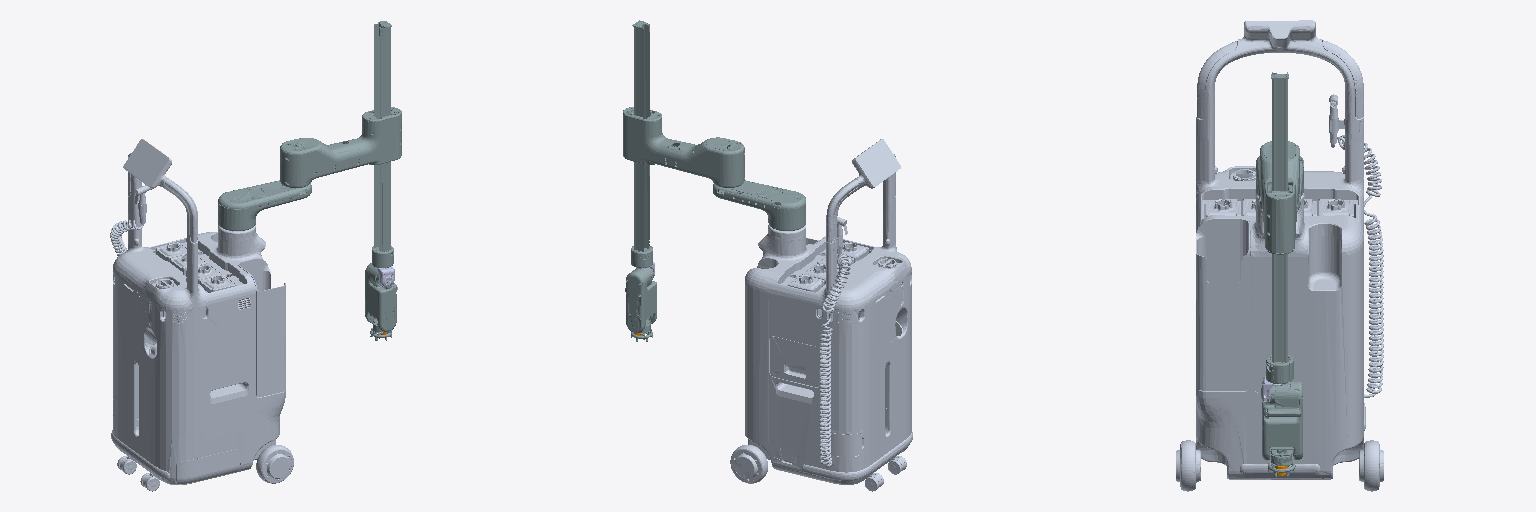
robot.urdf — 11-4-2:
<?xml version='1.0' encoding='utf-8'?>
<robot name="11-4-2">
  <link name="chassis_link">
    <inertial>
      <origin xyz="0.0064536 0.005602 0.4715" rpy="0 0 0" />
      <mass value="50" />
      <inertia ixx="0.3906" ixy="-0.011384" ixz="0.0049803" iyy="0.38788" iyz="0.0046922" izz="0.21531" />
    </inertial>
    <visual>
      <origin xyz="0 0 0" rpy="0 0 0" />
      <geometry>
        <mesh filename="meshes/chassis_link.STL" />
      </geometry>
      <material name="">
        <color rgba="0.80784 0.84314 0.90588 1" />
      </material>
    </visual>
    <collision>
      <origin xyz="0 0 0" rpy="0 0 0" />
      <geometry>
        <mesh filename="meshes/chassis_link.STL" />
      </geometry>
    </collision>
  </link>
  <link name="wheel_left_link">
    <inertial>
      <origin xyz="-2.5956E-08 1.4735E-07 -0.031758" rpy="0 0 0" />
      <mass value="5" />
      <inertia ixx="0.00047265" ixy="1.2993E-09" ixz="3.411E-11" iyy="0.00047265" iyz="6.0582E-12" izz="0.00085288" />
    </inertial>
    <visual>
      <origin xyz="0 0 0" rpy="0 0 0" />
      <geometry>
        <mesh filename="meshes/wheel_left_link.STL" />
      </geometry>
      <material name="">
        <color rgba="0.80784 0.84314 0.90588 1" />
      </material>
    </visual>
    <collision>
      <origin xyz="0 0 0" rpy="0 0 0" />
      <geometry>
        <mesh filename="meshes/wheel_left_link.STL" />
      </geometry>
    </collision>
  </link>
  <joint name="wheel_left_link" type="continuous">
    <origin xyz="0.16 0.20275 0.0237" rpy="1.5708 -1.5708 0" />
    <parent link="chassis_link" />
    <child link="wheel_left_link" />
    <axis xyz="0 0 1" />
  </joint>
  <link name="wheel_right_link">
    <inertial>
      <origin xyz="2.4542E-08 1.2337E-08 0.032242" rpy="0 0 0" />
      <mass value="5" />
      <inertia ixx="0.00047265" ixy="-2.8495E-09" ixz="-2.2362E-11" iyy="0.00047265" iyz="-2.6387E-11" izz="0.00085288" />
    </inertial>
    <visual>
      <origin xyz="0 0 0" rpy="0 0 0" />
      <geometry>
        <mesh filename="meshes/wheel_right_link.STL" />
      </geometry>
      <material name="">
        <color rgba="0.80784 0.84314 0.90588 1" />
      </material>
    </visual>
    <collision>
      <origin xyz="0 0 0" rpy="0 0 0" />
      <geometry>
        <mesh filename="meshes/wheel_right_link.STL" />
      </geometry>
    </collision>
  </link>
  <joint name="wheel_right_link" type="continuous">
    <origin xyz="0.16 -0.20275 0.0237" rpy="1.5708 -1.5708 0" />
    <parent link="chassis_link" />
    <child link="wheel_right_link" />
    <axis xyz="0 0 1" />
  </joint>
  <link name="arm_mount_joint">
    <inertial>
      <origin xyz="0 0 0" rpy="0 0 0" />
      <mass value="0.5" />
      <inertia ixx="0" ixy="0" ixz="0" iyy="0" iyz="0" izz="0" />
    </inertial>
    <visual>
      <origin xyz="0 0 0" rpy="0 0 0" />
      <geometry>
        <mesh filename="meshes/arm_mount_joint.STL" />
      </geometry>
      <material name="">
        <color rgba="1 1 1 1" />
      </material>
    </visual>
    <collision>
      <origin xyz="0 0 0" rpy="0 0 0" />
      <geometry>
        <mesh filename="meshes/arm_mount_joint.STL" />
      </geometry>
    </collision>
  </link>
  <joint name="arm_mount_joint" type="fixed">
    <origin xyz="0.153 0 0.88765" rpy="0 0 0.0" />
    <parent link="chassis_link" />
    <child link="arm_mount_joint" />
    <axis xyz="0 0 0" />
  </joint>
  <link name="arm_joint1">
    <inertial>
      <origin xyz="0.060036 0.0013498 -0.03342" rpy="0 0 0" />
      <mass value="1.5" />
      <inertia ixx="0.00055903" ixy="-0.0001017" ixz="-0.00019926" iyy="0.0044725" iyz="-3.3406E-06" izz="0.0046668" />
    </inertial>
    <visual>
      <origin xyz="0 0 0" rpy="0 0 0" />
      <geometry>
        <mesh filename="meshes/arm_joint1.STL" />
      </geometry>
      <material name="">
        <color rgba="0.59216 0.66667 0.68235 1" />
      </material>
    </visual>
    <collision>
      <origin xyz="0 0 0" rpy="0 0 0" />
      <geometry>
        <mesh filename="meshes/arm_joint1.STL" />
      </geometry>
    </collision>
  </link>
  <joint name="arm_joint1" type="revolute">
    <origin xyz="0 0 0" rpy="0 0 0" />
    <parent link="arm_mount_joint" />
    <child link="arm_joint1" />
    <axis xyz="0 0 1" />
    <limit lower="0" upper="0" effort="0" velocity="0" />
  </joint>
  <link name="arm_joint2">
    <inertial>
      <origin xyz="0.13648 0.0063874 -0.067802" rpy="0 0 0" />
      <mass value="1.5" />
      <inertia ixx="0.0016395" ixy="-5.7716E-05" ixz="-0.00094019" iyy="0.015626" iyz="3.5816E-06" izz="0.014853" />
    </inertial>
    <visual>
      <origin xyz="0 0 0" rpy="0 0 0" />
      <geometry>
        <mesh filename="meshes/arm_joint2.STL" />
      </geometry>
      <material name="">
        <color rgba="0.59216 0.66667 0.68235 1" />
      </material>
    </visual>
    <collision>
      <origin xyz="0 0 0" rpy="0 0 0" />
      <geometry>
        <mesh filename="meshes/arm_joint2.STL" />
      </geometry>
    </collision>
  </link>
  <joint name="arm_joint2" type="revolute">
    <origin xyz="0.22 0 0.13296" rpy="0 0 0" />
    <parent link="arm_joint1" />
    <child link="arm_joint2" />
    <axis xyz="0 0 1" />
    <limit lower="0" upper="0" effort="0" velocity="0" />
  </joint>
  <link name="arm_joint3">
    <inertial>
      <origin xyz="0.0021928 0.0049691 0.3388" rpy="0 0 0" />
      <mass value="1" />
      <inertia ixx="0.021701" ixy="-1.3756E-05" ixz="3.5708E-08" iyy="0.021662" iyz="-3.1676E-08" izz="0.0002373" />
    </inertial>
    <visual>
      <origin xyz="0 0 0" rpy="0 0 0" />
      <geometry>
        <mesh filename="meshes/arm_joint3.STL" />
      </geometry>
      <material name="">
        <color rgba="0.59216 0.66667 0.68235 1" />
      </material>
    </visual>
    <collision>
      <origin xyz="0 0 0" rpy="0 0 0" />
      <geometry>
        <mesh filename="meshes/arm_joint3.STL" />
      </geometry>
    </collision>
  </link>
  <joint name="arm_joint3" type="prismatic">
    <origin xyz="0.32549 -0.00010767 -0.5001" rpy="0 0 0" />
    <parent link="arm_joint2" />
    <child link="arm_joint3" />
    <axis xyz="0 0 1" />
    <limit lower="0" upper="0" effort="0" velocity="0" />
  </joint>
  <link name="arm_joint4">
    <inertial>
      <origin xyz="-0.02654 0.0071633 -0.022123" rpy="0 0 0" />
      <mass value="0.5" />
      <inertia ixx="1.4366E-05" ixy="-1.2671E-07" ixz="-3.6545E-06" iyy="1.2739E-05" iyz="2.8268E-07" izz="1.0192E-05" />
    </inertial>
    <visual>
      <origin xyz="0 0 0" rpy="0 0 0" />
      <geometry>
        <mesh filename="meshes/arm_joint4.STL" />
      </geometry>
      <material name="">
        <color rgba="0.79216 0.81961 0.93333 1" />
      </material>
    </visual>
    <collision>
      <origin xyz="0 0 0" rpy="0 0 0" />
      <geometry>
        <mesh filename="meshes/arm_joint4.STL" />
      </geometry>
    </collision>
  </link>
  <joint name="arm_joint4" type="revolute">
    <origin xyz="0 0 0" rpy="0 0 1.5807" />
    <parent link="arm_joint3" />
    <child link="arm_joint4" />
    <axis xyz="0 0 1" />
    <limit lower="0" upper="0" effort="0" velocity="0" />
  </joint>
  <link name="arm_joint5">
    <inertial>
      <origin xyz="-0.0020117 0.054321 0.043414" rpy="0 0 0" />
      <mass value="1" />
      <inertia ixx="0.00065389" ixy="-5.5292E-05" ixz="3.9225E-06" iyy="0.0002255" iyz="3.4951E-05" izz="0.00060496" />
    </inertial>
    <visual>
      <origin xyz="0 0 0" rpy="0 0 0" />
      <geometry>
        <mesh filename="meshes/arm_joint5.STL" />
      </geometry>
      <material name="">
        <color rgba="0.59216 0.66667 0.68235 1" />
      </material>
    </visual>
    <collision>
      <origin xyz="0 0 0" rpy="0 0 0" />
      <geometry>
        <mesh filename="meshes/arm_joint5.STL" />
      </geometry>
    </collision>
  </link>
  <joint name="arm_joint5" type="revolute">
    <origin xyz="-0.031613 0.002352 -0.04255" rpy="-1.5708 0 -1.5708" />
    <parent link="arm_joint4" />
    <child link="arm_joint5" />
    <axis xyz="0 0 1" />
    <limit lower="0" upper="0" effort="0" velocity="0" />
  </joint>
  <link name="arm_joint6">
    <inertial>
      <origin xyz="0.0142 0.021215 0.037235" rpy="0 0 0" />
      <mass value="1.5" />
      <inertia ixx="3.7651E-05" ixy="-2.0522E-07" ixz="5.0276E-07" iyy="5.7051E-05" iyz="-4.6836E-07" izz="2.7137E-05" />
    </inertial>
    <visual>
      <origin xyz="0 0 0" rpy="0 0 0" />
      <geometry>
        <mesh filename="meshes/arm_joint6.STL" />
      </geometry>
      <material name="">
        <color rgba="0.59216 0.66667 0.68235 1" />
      </material>
    </visual>
    <collision>
      <origin xyz="0 0 0" rpy="0 0 0" />
      <geometry>
        <mesh filename="meshes/arm_joint6.STL" />
      </geometry>
    </collision>
  </link>
  <joint name="arm_joint6" type="revolute">
    <origin xyz="-3.816E-05 0.16018 -0.0020483" rpy="0 0 0" />
    <parent link="arm_joint5" />
    <child link="arm_joint6" />
    <axis xyz="0 0 1" />
    <limit lower="0" upper="0" effort="0" velocity="0" />
  </joint>
  <link name="tool_joint">
    <inertial>
      <origin xyz="0.014441 0.0010081 -0.013685" rpy="0 0 0" />
      <mass value="0" />
      <inertia ixx="2.8165E-06" ixy="1.0588E-22" ixz="-7.6164E-20" iyy="2.8165E-06" iyz="-5.9568E-20" izz="3.2797E-06" />
    </inertial>
    <visual>
      <origin xyz="0 0 0" rpy="0 0 0" />
      <geometry>
        <mesh filename="meshes/tool_joint.STL" />
      </geometry>
      <material name="">
        <color rgba="1 0.6 0 1" />
      </material>
    </visual>
    <collision>
      <origin xyz="0 0 0" rpy="0 0 0" />
      <geometry>
        <mesh filename="meshes/tool_joint.STL" />
      </geometry>
    </collision>
  </link>
  <joint name="tool_joint" type="fixed">
    <origin xyz="0 0.058533 0.037919" rpy="-1.5708 0 0" />
    <parent link="arm_joint6" />
    <child link="tool_joint" />
    <axis xyz="0 0 0" />
  </joint>
</robot>

--- Render facts (derived) ---
3 views of the same robot in one strip: view 1: azimuth 30°, elevation 25°; view 2: azimuth 150°, elevation 25°; view 3: azimuth 270°, elevation 25° (orthographic).
Robot: 11-4-2 — 11 links, 10 joints (5 revolute, 2 continuous, 1 prismatic, 2 fixed); root link chassis_link; default pose: every joint at zero.
Visible links, largest first — view 1: chassis_link, arm_joint2, arm_joint3, arm_joint1, arm_joint5, wheel_right_link; view 2: chassis_link, arm_joint2, arm_joint3, arm_joint1, arm_joint5, wheel_left_link; view 3: chassis_link, arm_joint3, arm_joint2, arm_joint5, wheel_right_link, wheel_left_link, arm_joint6.
Boxes of the visible links, <box> form: chassis_link: <box>110,139,285,491</box>; arm_joint2: <box>280,107,401,187</box>; arm_joint3: <box>372,21,393,267</box>; arm_joint1: <box>218,180,311,230</box>; arm_joint5: <box>365,263,397,331</box>; wheel_right_link: <box>256,445,293,483</box>; chassis_link: <box>745,139,912,491</box>; arm_joint2: <box>623,107,744,187</box>; arm_joint3: <box>631,20,652,267</box>; arm_joint1: <box>713,180,805,230</box>; arm_joint5: <box>625,267,656,333</box>; wheel_left_link: <box>730,445,767,483</box>; chassis_link: <box>1196,20,1383,479</box>; arm_joint3: <box>1266,72,1293,383</box>; arm_joint2: <box>1260,141,1299,254</box>; arm_joint5: <box>1262,381,1302,460</box>; wheel_right_link: <box>1176,440,1200,491</box>; wheel_left_link: <box>1359,440,1383,491</box>; arm_joint6: <box>1268,447,1295,476</box>.
Size in the robot's own frame: 1.01 by 0.5335 by 1.42 metres.
Meshes: 11 distinct files referenced, 11 mesh visuals loaded (11 binary STL).
